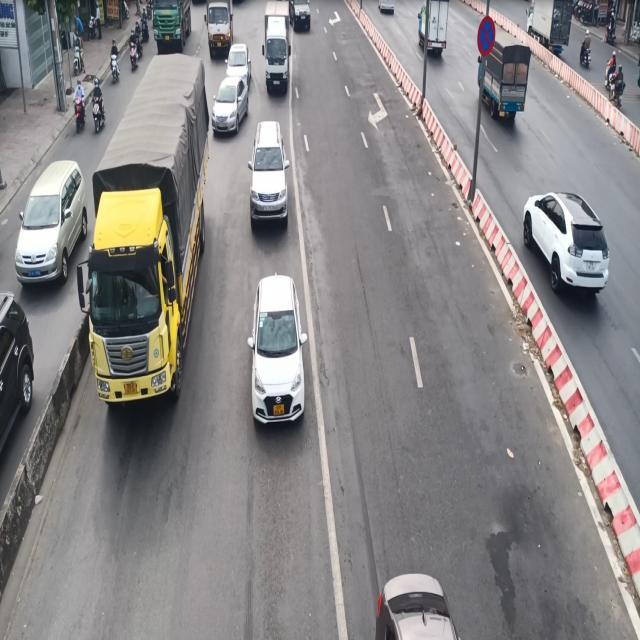car: (246, 272, 307, 426), (14, 159, 87, 286), (522, 191, 610, 295), (374, 572, 460, 639), (0, 292, 34, 460), (247, 120, 290, 226)
truck: (76, 51, 209, 406), (476, 29, 536, 131)
